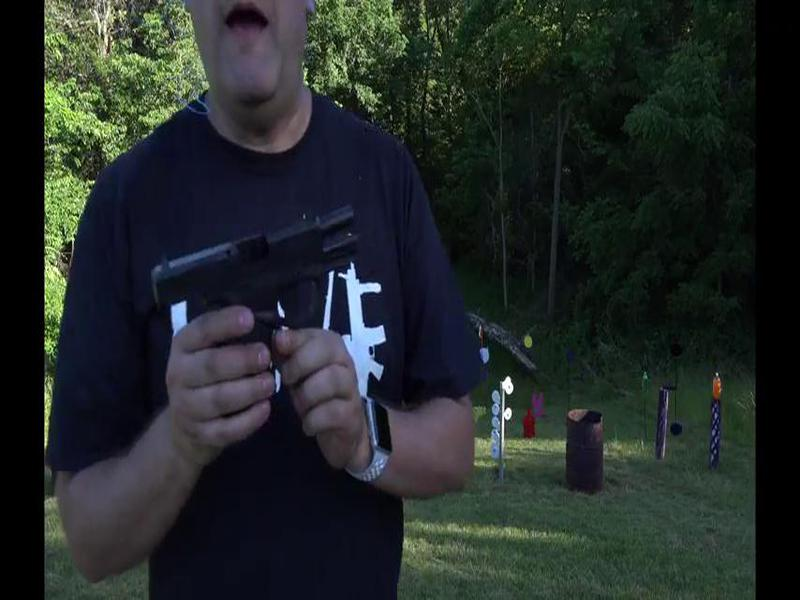Pistola: (140, 199, 381, 399)
